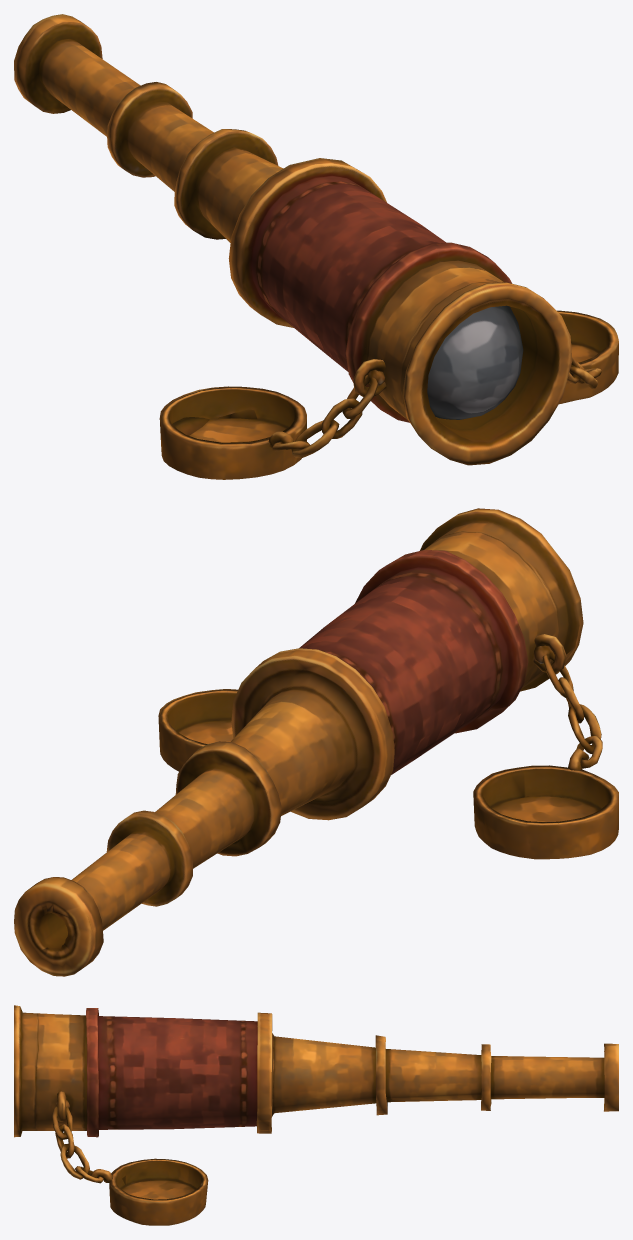
The model's file is spyglass.glb.
3 views of the same model, one above another, from view 1: azimuth 30°, elevation 25°; view 2: azimuth 150°, elevation 25°; view 3: azimuth 270°, elevation 25° (orthographic). The views are drawn at different scales.
Parts seen in each view (by area): view 1: geometry_0; view 2: geometry_0; view 3: geometry_0.
Part boxes in pixels (x1,y1,x2,y2): geometry_0: (14, 14, 618, 479); geometry_0: (14, 508, 618, 976); geometry_0: (14, 1005, 618, 1225).
Bounding box in the file's own units: 0.5797 × 0.2577 × 1.
Materials: 1 (1 with a texture image).
